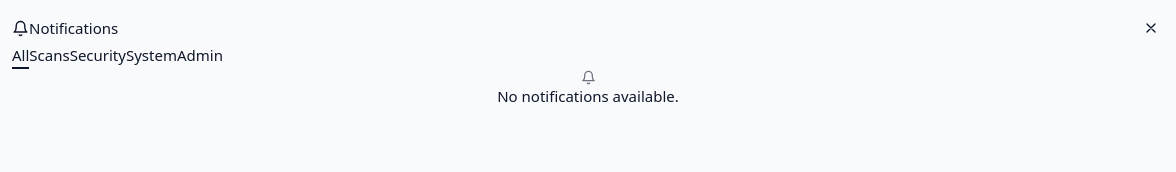
Scenario: NotificationsPanel › shows the category-specific empty message and the load error
This screenshot has width=1176, height=172.
Check: the text "No notifications available." is shown, box left=497, top=85, right=679, bottom=107
Click the tab "Scans" at (49, 56), box left=29, top=44, right=70, bottom=68
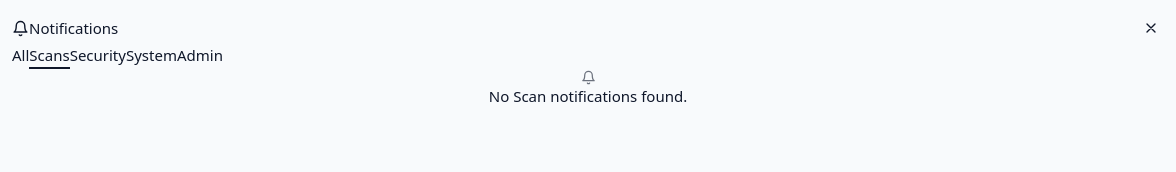
Check: the text "No Scan notifications found." is shown, box left=489, top=85, right=687, bottom=107
